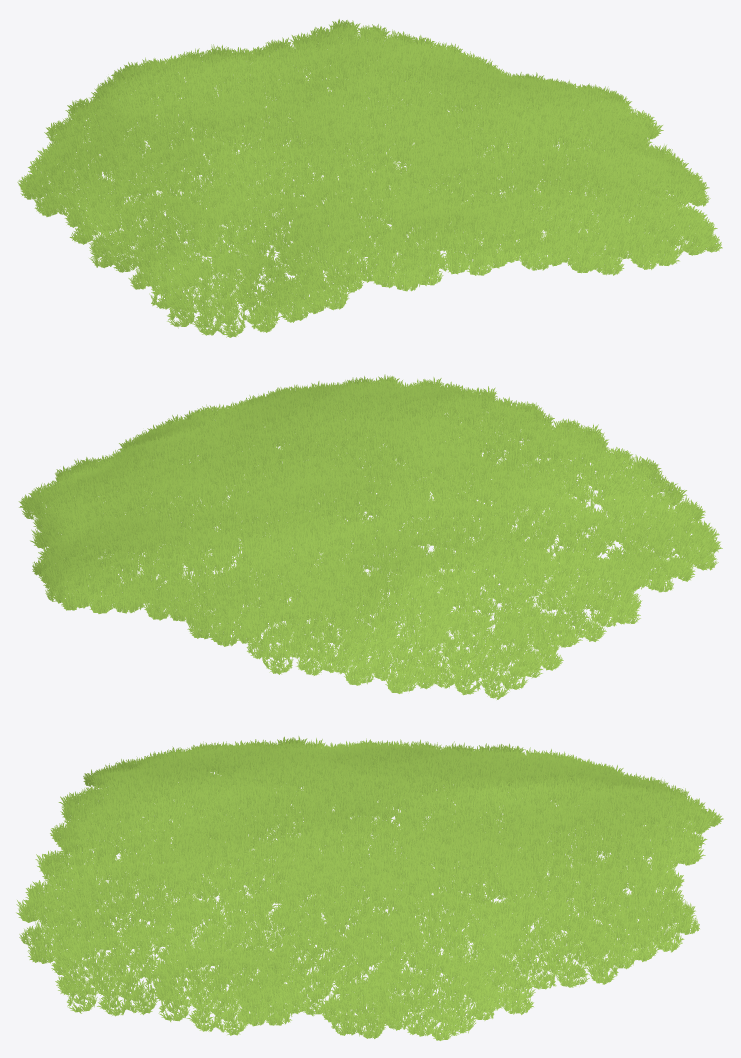
File: SM_Env_Grass_Large_03.glb
3 renders of one model, top to bottom at view 1: azimuth 30°, elevation 25°; view 2: azimuth 150°, elevation 25°; view 3: azimuth 270°, elevation 25°, orthographic. The views are drawn at different scales.
Visible parts, largest first — view 1: SM_Env_Grass_Large_03; view 2: SM_Env_Grass_Large_03; view 3: SM_Env_Grass_Large_03.
Boxes of the visible parts, x1,y1,x2,y2 form: SM_Env_Grass_Large_03: [17, 19, 722, 337]; SM_Env_Grass_Large_03: [18, 374, 722, 699]; SM_Env_Grass_Large_03: [16, 736, 723, 1040].
Size of the model in its own units: 34.52 by 4.06 by 34.71.
1 material, 1 textured.
